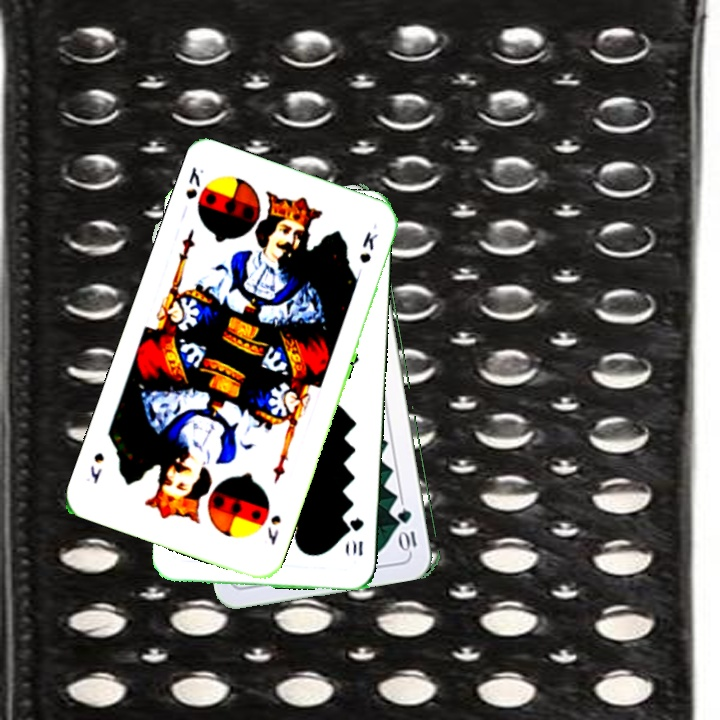G10: (396, 505, 419, 554), (346, 514, 366, 558)
SK: (181, 162, 207, 202), (263, 510, 284, 548)
